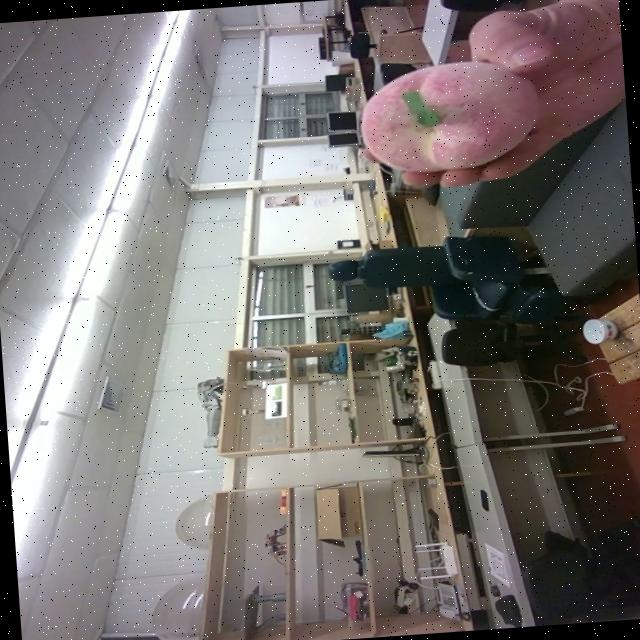peach: (360, 60, 539, 171)
